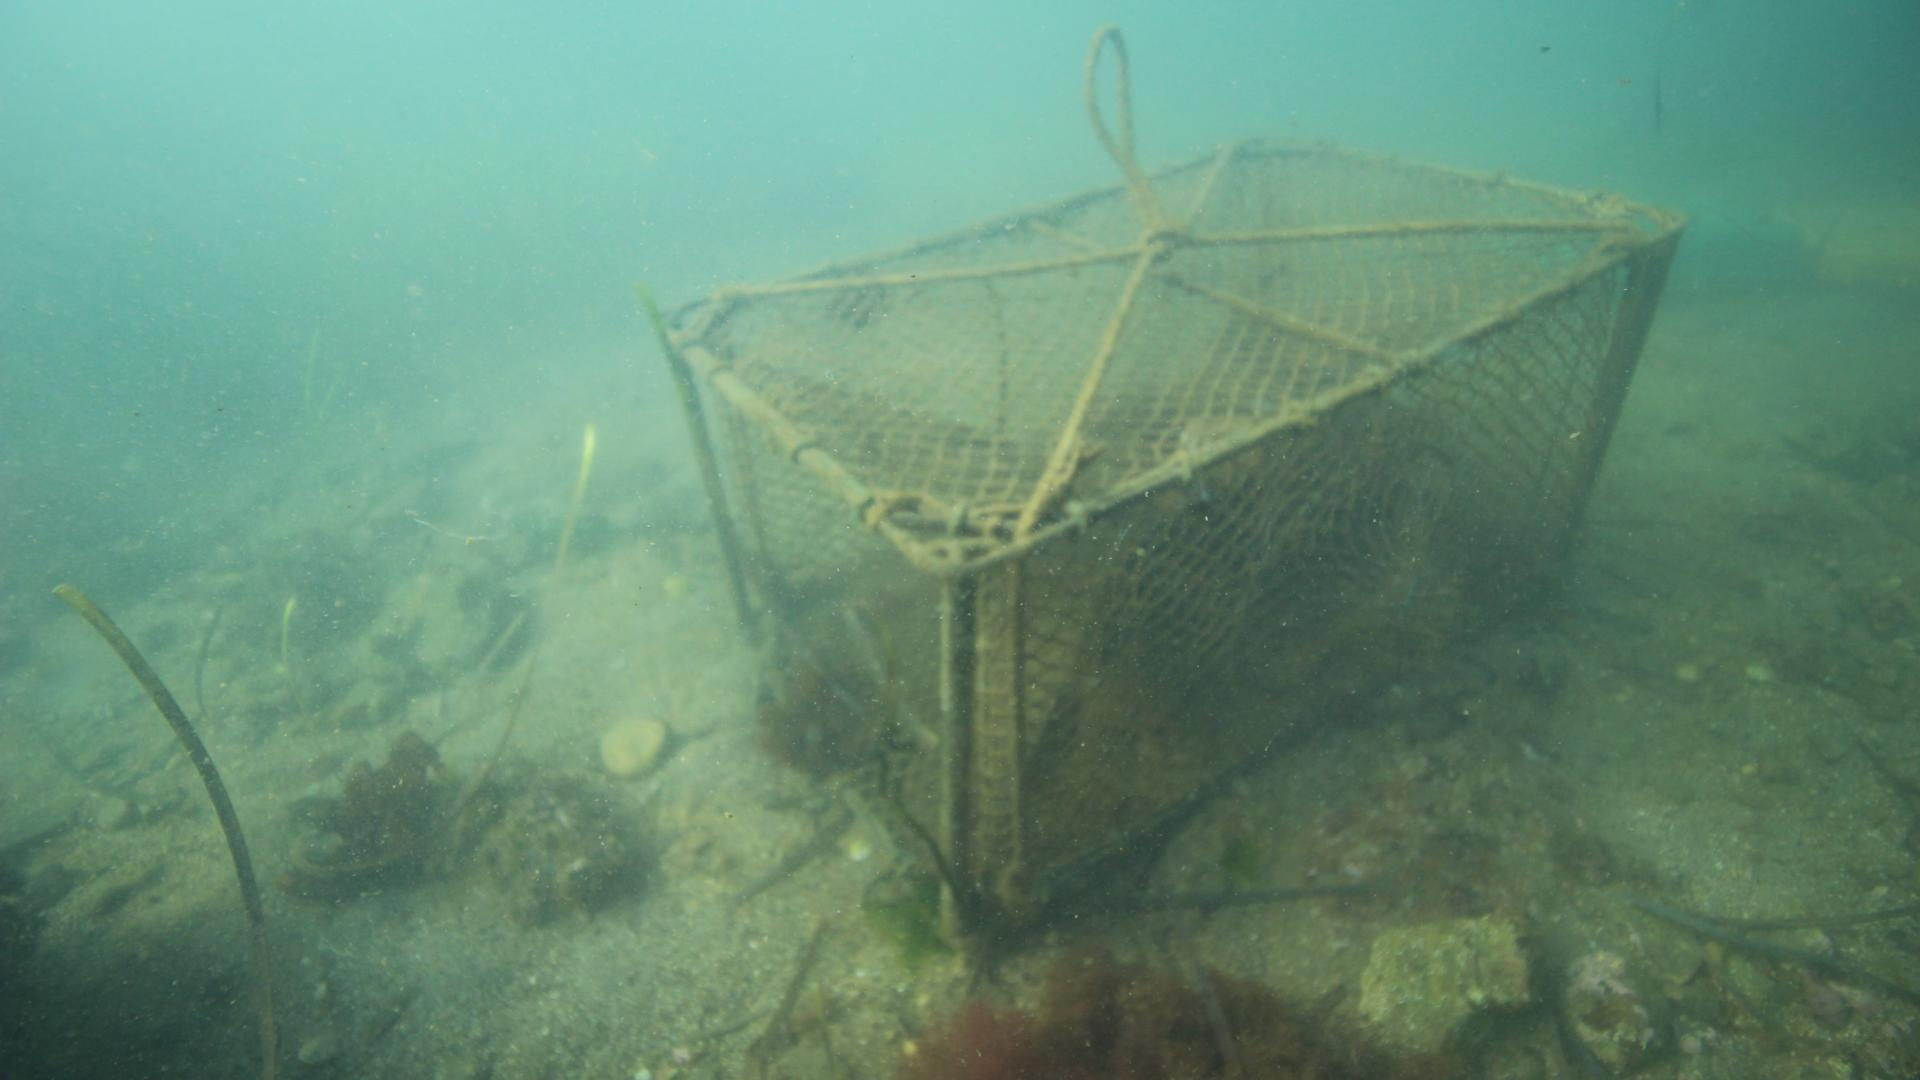bundle of ropes: (1071, 18, 1193, 173)
rectangular fish trap: (641, 129, 1689, 984)
